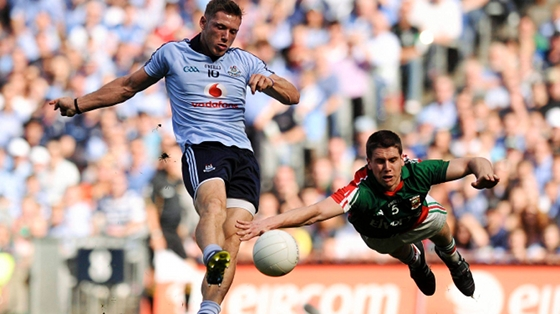ball: (250, 225, 298, 276)
player: (154, 1, 266, 293), (340, 123, 478, 302)
